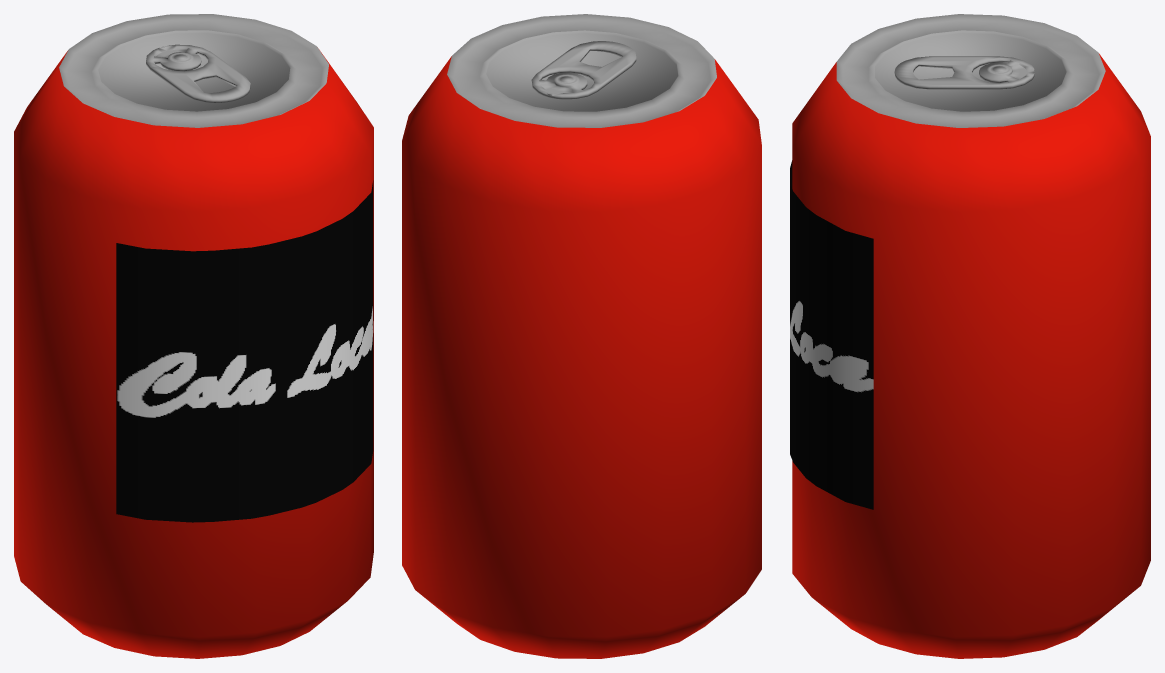
File: Lata de refresco 1.fbx
3 renders of one model, left to right at view 1: azimuth 30°, elevation 25°; view 2: azimuth 150°, elevation 25°; view 3: azimuth 270°, elevation 25°, orthographic.
Parts seen in each view (by area): view 1: Cylinder, Marcas Piratas-08, Circle; view 2: Cylinder, Circle; view 3: Cylinder, Marcas Piratas-08, Circle.
Boxes of the visible parts, left/top/right/bottom form: Cylinder: left=14, top=14, right=373, bottom=658; Marcas Piratas-08: left=116, top=180, right=373, bottom=522; Circle: left=146, top=44, right=250, bottom=102; Cylinder: left=402, top=14, right=761, bottom=658; Circle: left=531, top=41, right=636, bottom=99; Cylinder: left=792, top=14, right=1150, bottom=658; Marcas Piratas-08: left=790, top=160, right=873, bottom=509; Circle: left=894, top=56, right=1034, bottom=89.
Bounding box in the file's own units: 199 × 326 × 200.
